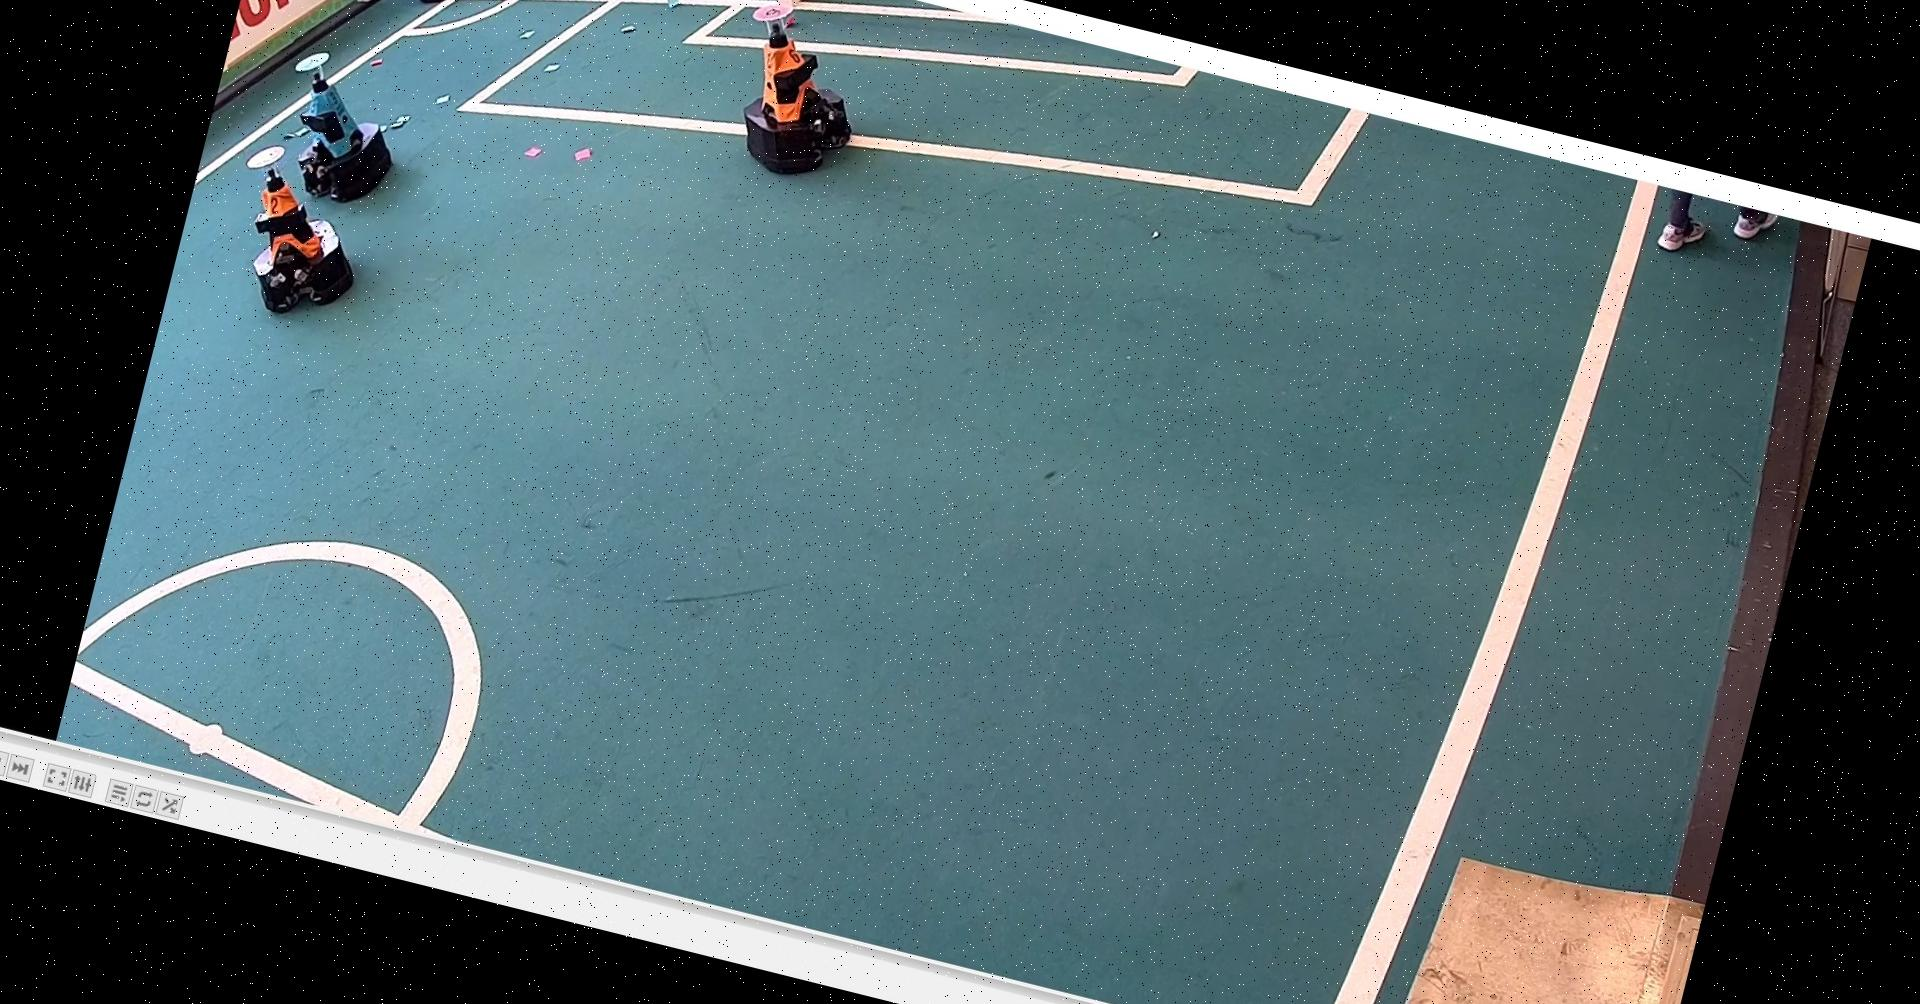Team_Blue: (265, 44, 427, 209)
Team_Red: (211, 137, 377, 327), (710, 0, 875, 182)
